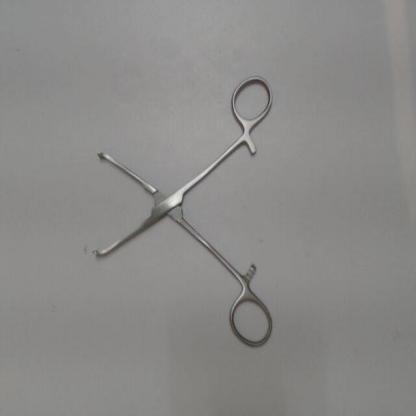Allis Tissue Forceps: (88, 67, 278, 352)
